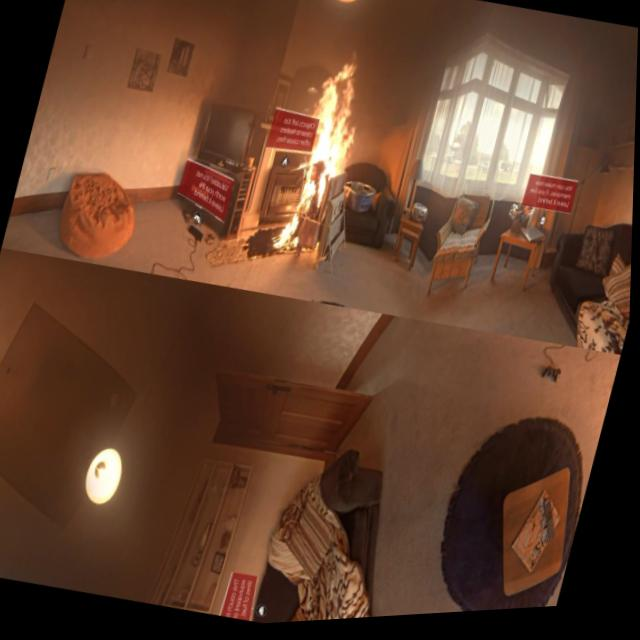fire: (272, 43, 378, 264)
